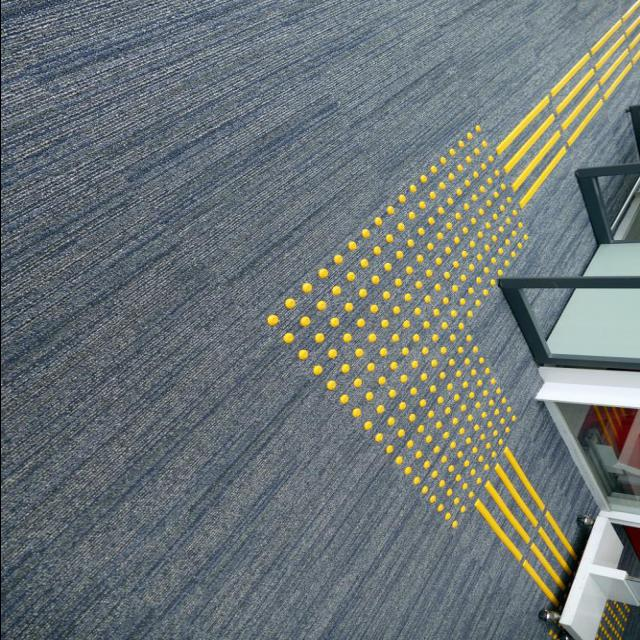tactile-guide-path: (268, 122, 530, 526), (496, 0, 639, 209), (474, 446, 580, 600), (589, 596, 633, 640)
